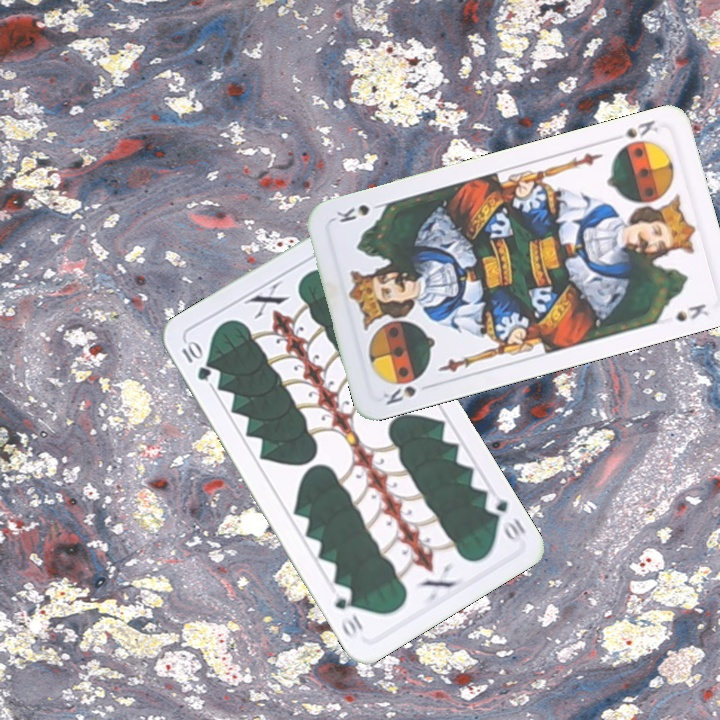G10: (480, 489, 528, 546), (177, 337, 214, 384)
SK: (606, 116, 660, 153), (378, 380, 435, 408)
